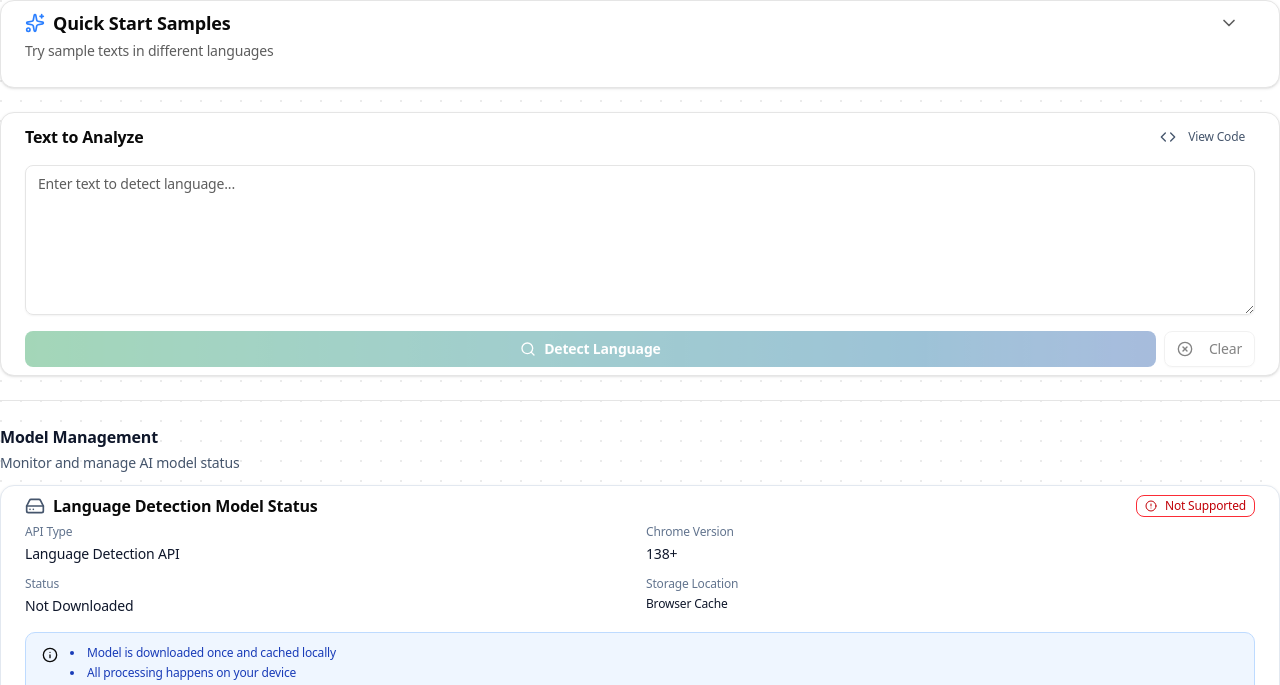
Test: Language Detection Integration › Loading States › should show loading state during detection
Type "Test" into the text box at (640, 240), box [25, 165, 1255, 315]
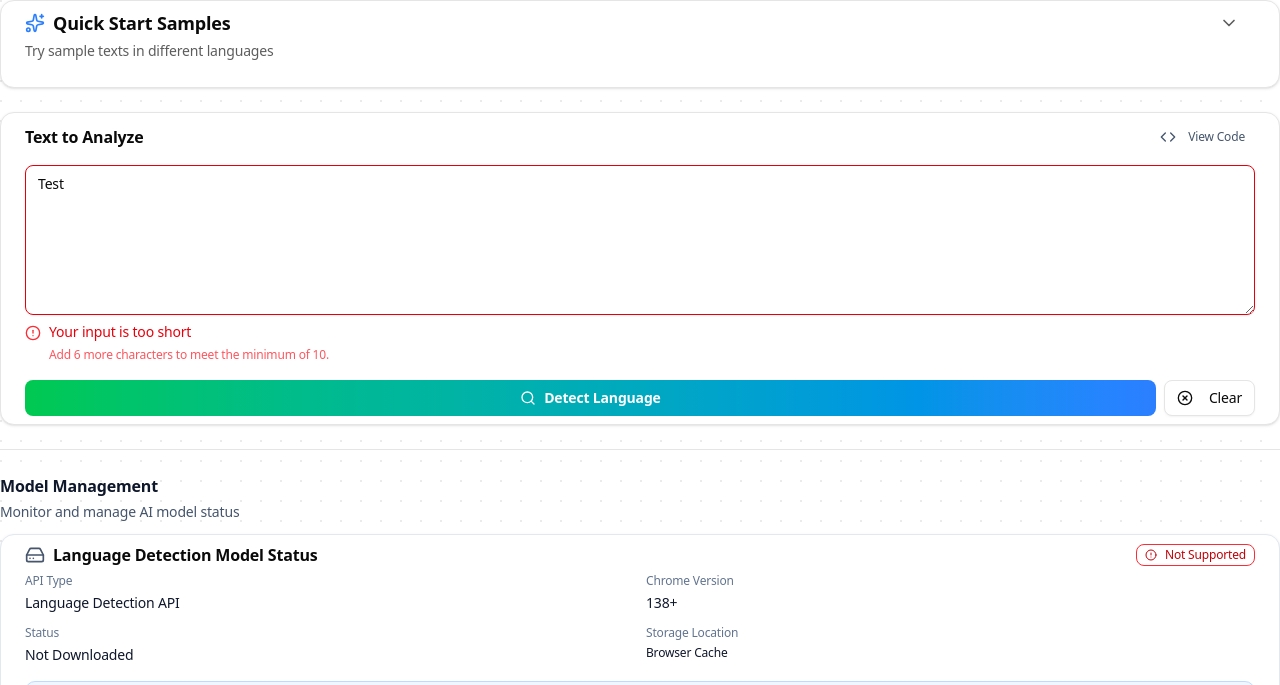
Click the button "Detect Language" at (590, 398), box [25, 380, 1156, 416]
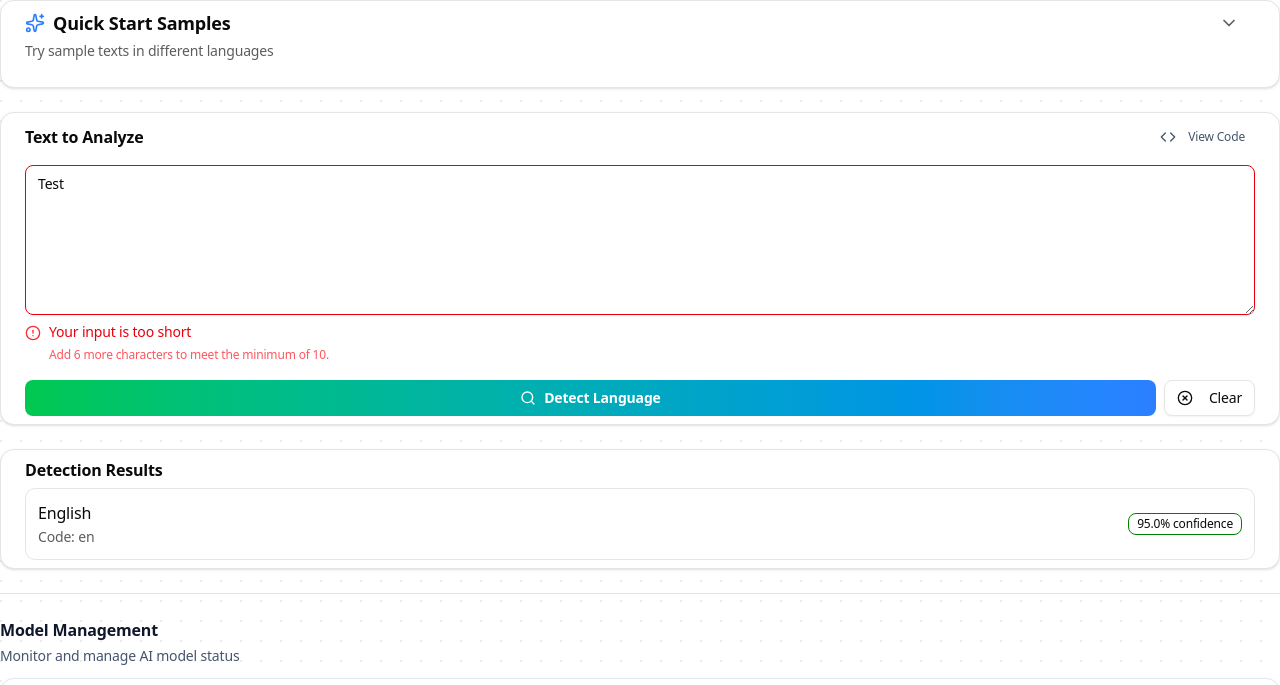
Expected: the text "detecting" is shown, [544, 388, 661, 408]
Expected: the text "English" is shown, [38, 502, 91, 524]
